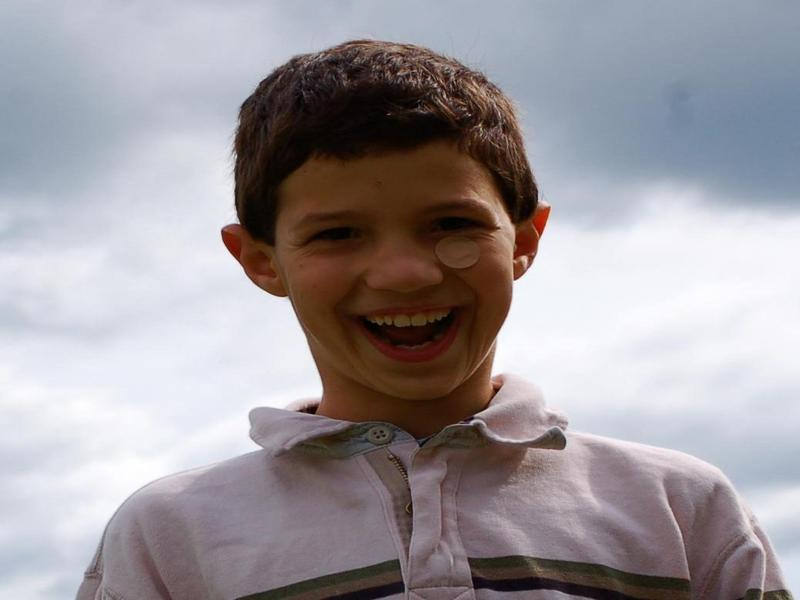person: (82, 47, 782, 600)
